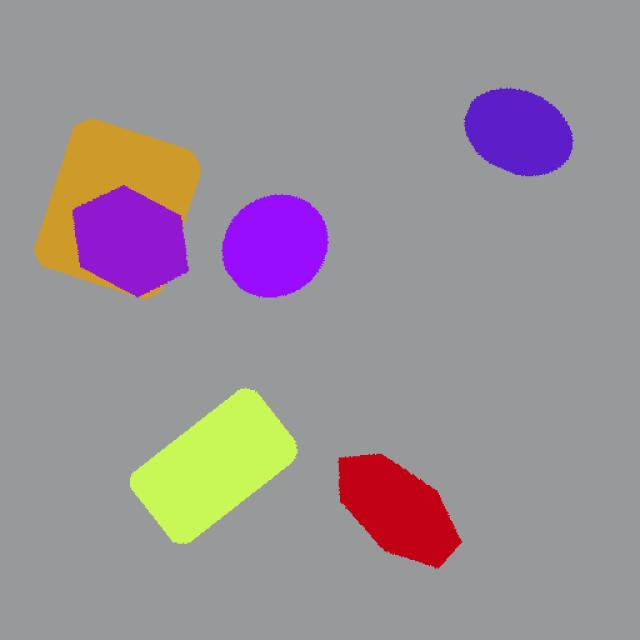Circle: (216, 192, 362, 316)
Heptagon: (316, 439, 512, 601)
Hexagon: (65, 183, 206, 304)
Oval: (465, 72, 581, 199)
Rectangle: (107, 372, 314, 557)
square: (28, 108, 203, 286)
